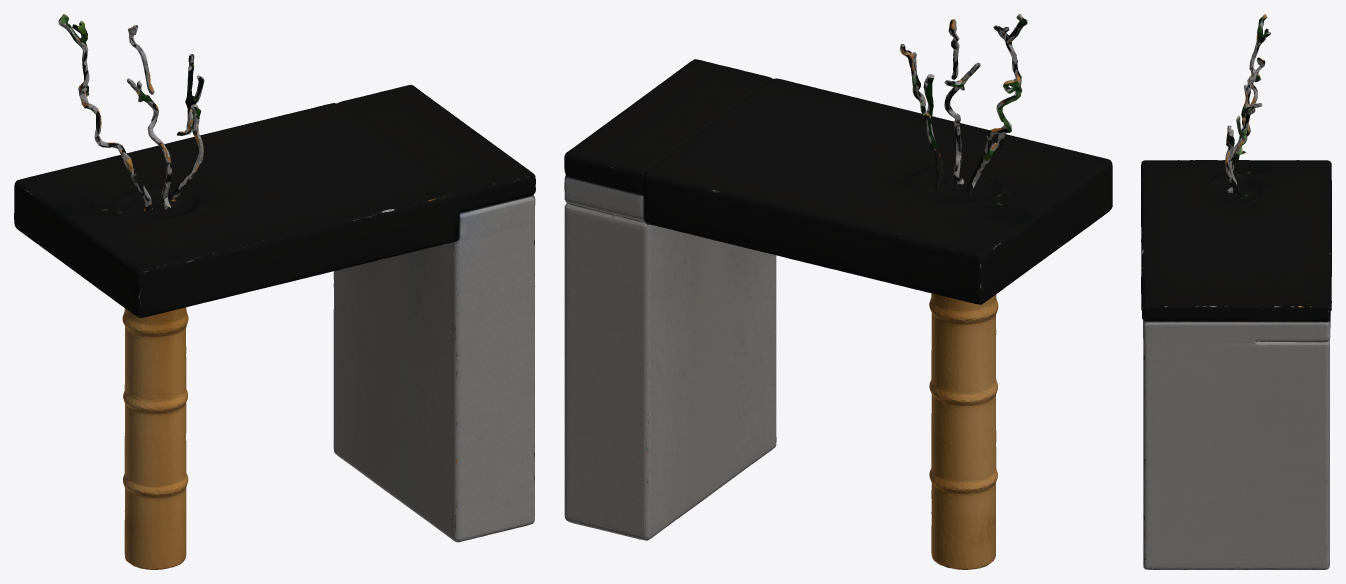
3 views of the same model, side by side, from view 1: azimuth 30°, elevation 25°; view 2: azimuth 150°, elevation 25°; view 3: azimuth 270°, elevation 25° (orthographic). The views are drawn at different scales.
Visible parts, largest first — view 1: world; view 2: world; view 3: world.
Part boxes in pixels (bbox=[...]): world: bbox=[14, 14, 535, 569]; world: bbox=[564, 14, 1112, 569]; world: bbox=[1141, 14, 1331, 569].
Bounding box in the file's own units: 1.53 × 2 × 0.8352.
Materials: 1 (1 with a texture image).
